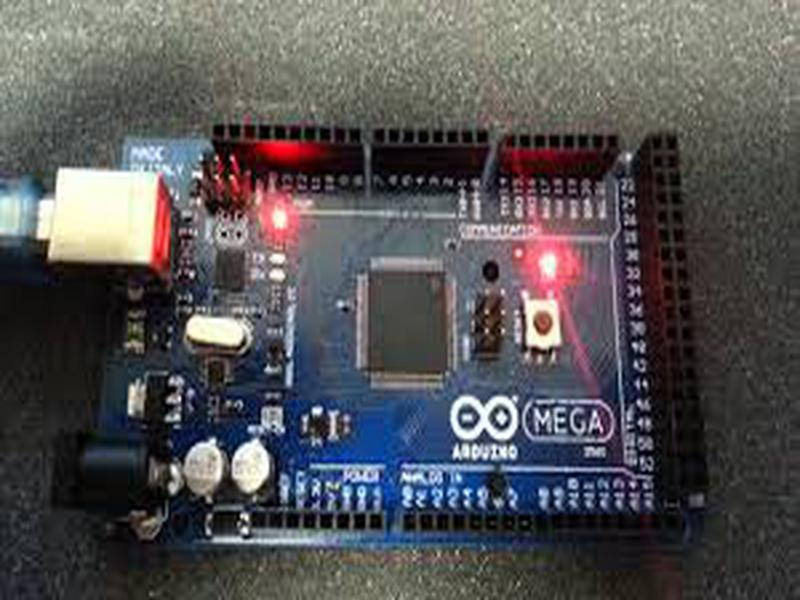Arduino Mega: (61, 116, 718, 546)
